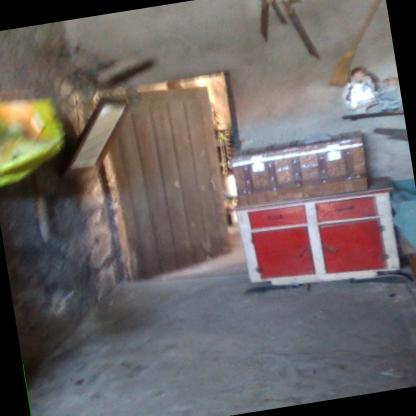semi: (92, 58, 268, 294)
